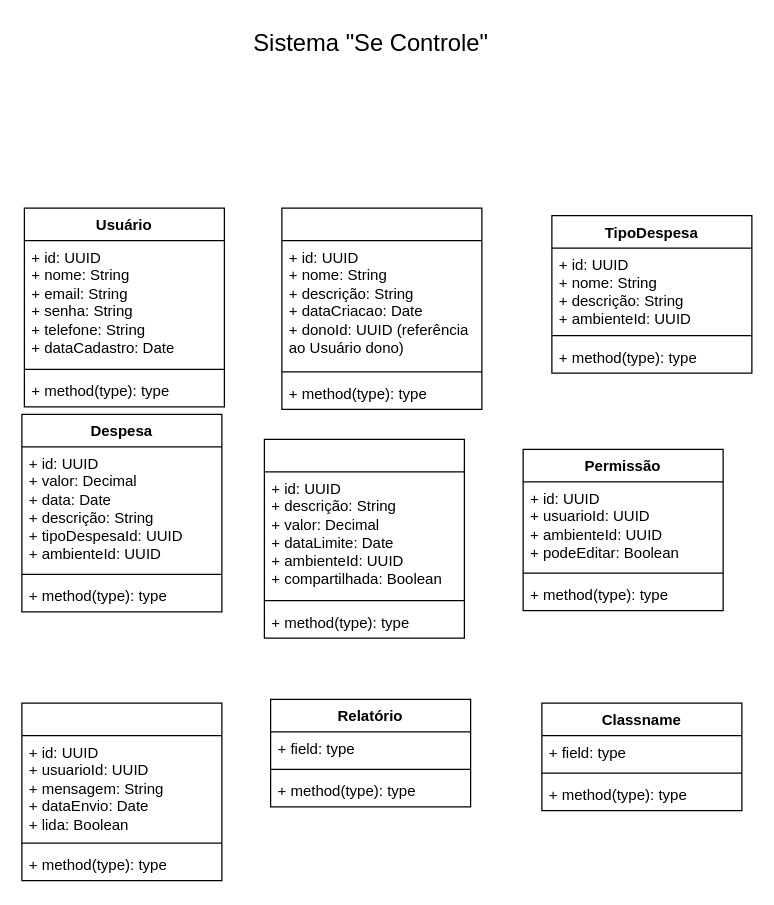
The diagram is 774 pixels wide and 905 high, and some of its shapes have lost their labels. The shapes that lost their labels are listed below. From the top down, each one's box as (x1, y1, x2, y2) in pixels, then its label:
(281, 207, 482, 409): Ambiente
(263, 438, 464, 638): Meta
(21, 702, 222, 881): Notificação
